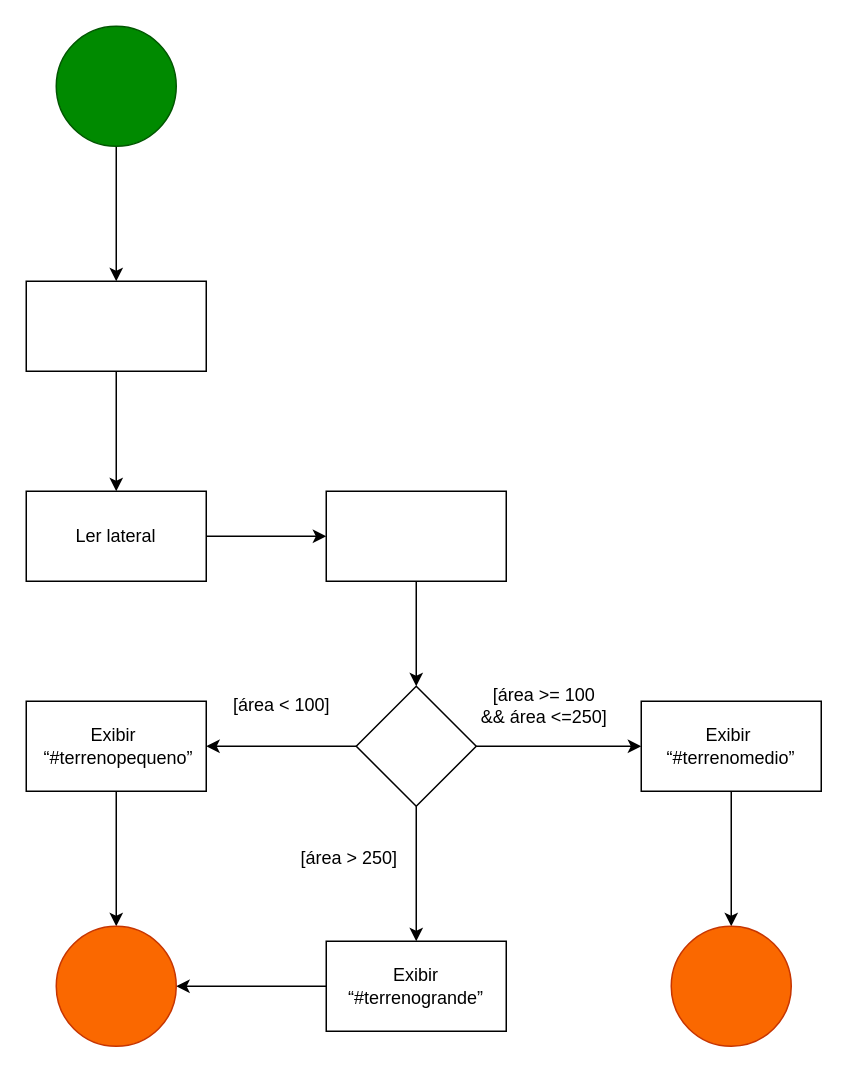
Some shapes in this 848 by 1073 pixel diagram are drawn without their labels. The centre of each missing label's shape, as x and y in pixels:
Calcular área: (415,535)
Ler frente: (115,325)
